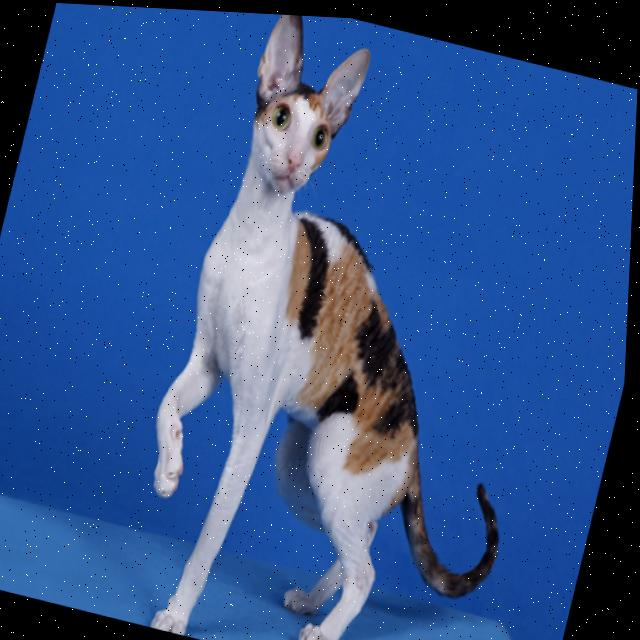Cornish Rex: (110, 5, 615, 640)
